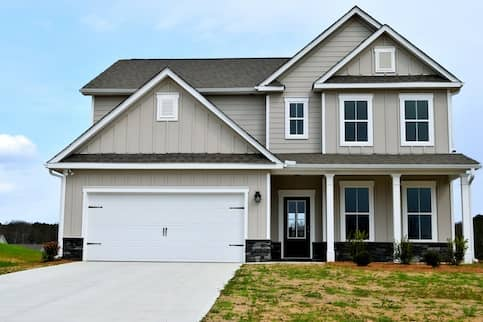Window: (341, 178, 375, 242), (404, 178, 436, 240), (341, 95, 374, 149), (402, 94, 433, 144), (283, 197, 309, 242), (283, 96, 310, 138)
